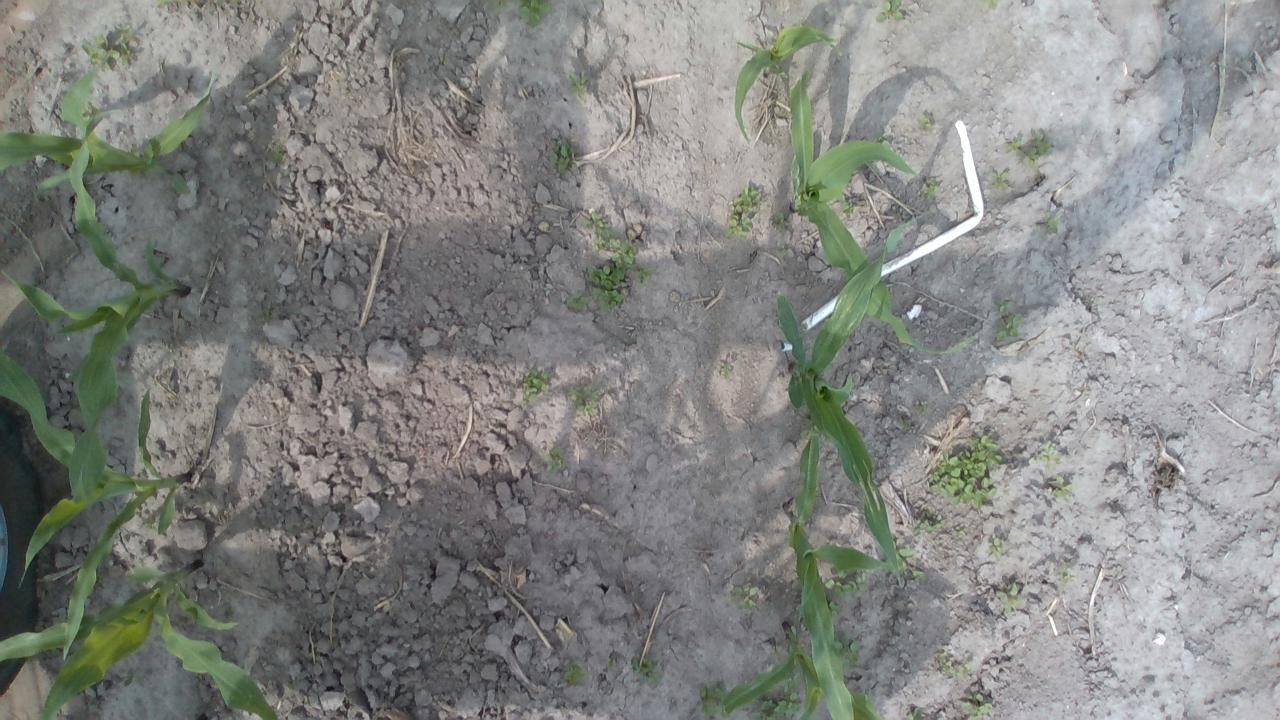Maize: (4, 349, 198, 658), (0, 190, 192, 442), (770, 250, 909, 580), (7, 556, 284, 718), (784, 66, 930, 354), (786, 433, 897, 718), (3, 65, 222, 192), (704, 624, 879, 718), (731, 24, 841, 147)
Weeds: (568, 211, 656, 315), (925, 434, 1003, 506), (78, 27, 132, 72), (823, 570, 869, 619), (910, 510, 970, 546), (727, 185, 760, 236), (829, 637, 869, 678), (1004, 130, 1052, 162), (994, 298, 1021, 347), (729, 580, 766, 613), (550, 140, 580, 176), (630, 652, 663, 684), (520, 367, 550, 402), (566, 385, 602, 414), (960, 690, 993, 718), (994, 584, 1026, 612), (512, 1, 552, 23), (560, 662, 592, 688), (938, 652, 970, 678), (546, 442, 564, 481), (564, 66, 590, 93), (873, 2, 911, 20), (1036, 441, 1060, 466), (1036, 211, 1060, 235), (266, 142, 288, 168), (988, 538, 1008, 562), (1046, 477, 1072, 494), (990, 168, 1010, 190), (920, 174, 938, 198), (844, 196, 864, 215), (256, 306, 280, 321), (920, 110, 937, 130), (719, 362, 736, 381), (1058, 564, 1074, 579)
